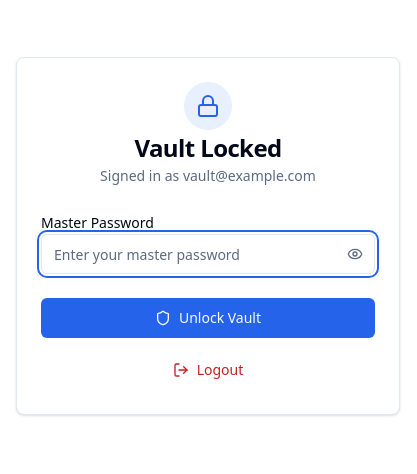
Test: unlock rate limiting — client-side lockout (real component) › caps the cooldown at 600s for a high failure count
Type "wrong-password" into the password field labelled "Master Password" at (208, 254), box [41,234,375,274]
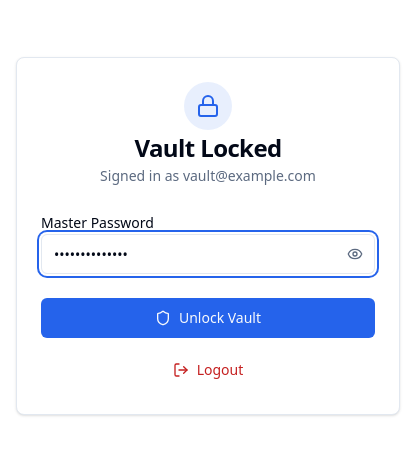
Click the button "Unlock Vault" at (208, 318), box [41,298,375,338]
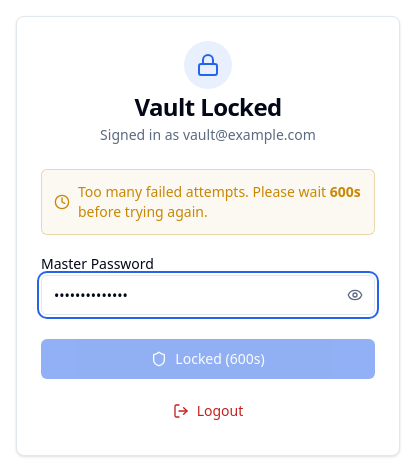
Expected: the button "Locked (600s)" is shown, [41,339,375,379]
